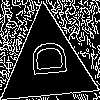D: (22, 38, 67, 80)
